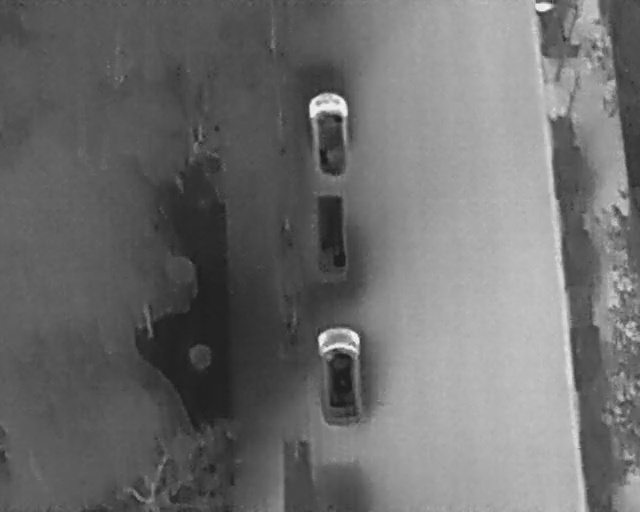Car: (313, 324, 369, 429), (307, 92, 350, 176), (310, 190, 351, 278)
